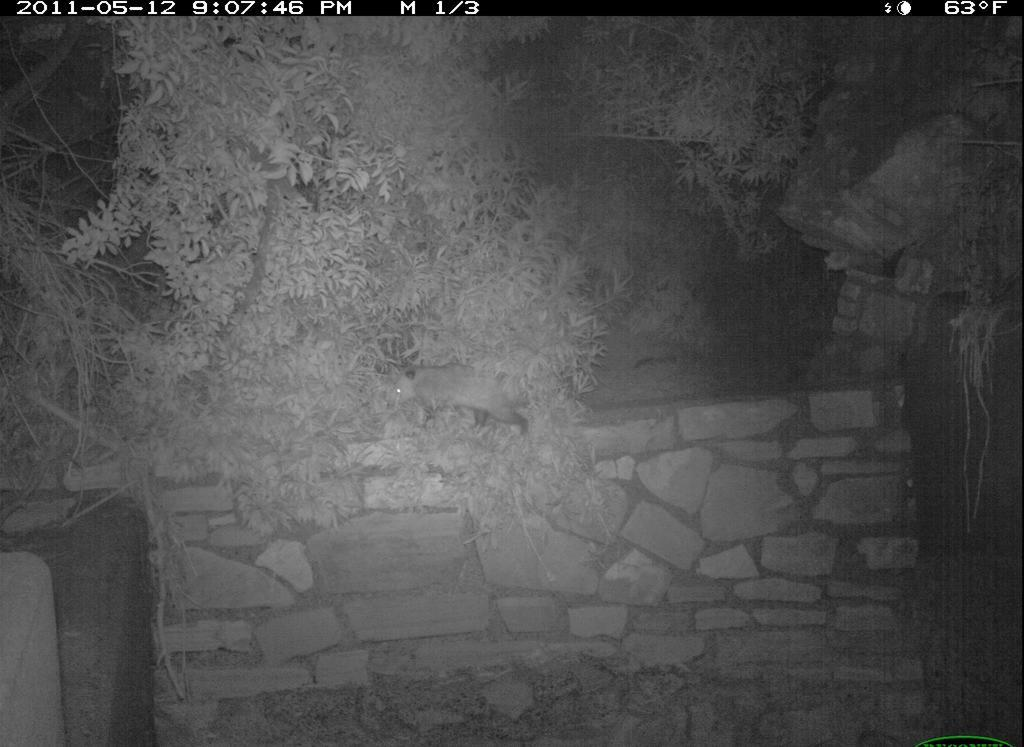opossum: (373, 360, 548, 451)
